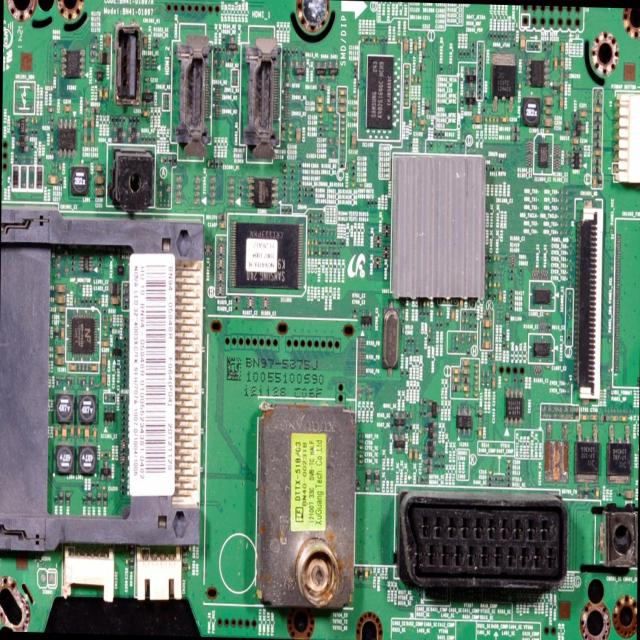Capacitor: (357, 436, 382, 469), (402, 33, 431, 57), (451, 357, 480, 379), (356, 378, 376, 405), (362, 470, 386, 492), (559, 39, 565, 114), (480, 317, 493, 351), (541, 95, 553, 130), (472, 114, 510, 125), (408, 432, 421, 462), (84, 113, 96, 145), (337, 86, 348, 115), (339, 114, 348, 148), (622, 486, 638, 504), (580, 412, 599, 426), (46, 170, 61, 187), (349, 130, 359, 154), (611, 412, 629, 425), (484, 280, 505, 291), (100, 463, 112, 482), (568, 136, 588, 147), (315, 94, 325, 115), (286, 122, 295, 144), (490, 361, 496, 391), (472, 376, 480, 398), (496, 289, 506, 306), (109, 280, 121, 294), (417, 471, 429, 485), (294, 125, 303, 143), (403, 86, 410, 109), (434, 306, 444, 322), (418, 116, 428, 131), (45, 132, 55, 147), (423, 457, 433, 472), (592, 484, 602, 499), (61, 421, 68, 442), (140, 33, 149, 49), (411, 74, 423, 86), (332, 113, 339, 133), (350, 118, 360, 132), (518, 32, 525, 52), (404, 61, 412, 78), (54, 283, 66, 294), (54, 345, 66, 356), (216, 218, 226, 231), (552, 56, 560, 72), (89, 362, 100, 373), (593, 101, 602, 114), (101, 369, 107, 388), (461, 315, 469, 329), (75, 424, 82, 440), (100, 339, 110, 350), (411, 99, 417, 117), (478, 425, 485, 440), (83, 425, 90, 440), (592, 148, 602, 158), (486, 466, 496, 476), (141, 108, 150, 119), (423, 300, 432, 311), (55, 296, 66, 305), (96, 87, 103, 101), (91, 427, 98, 441), (454, 332, 461, 345), (64, 104, 73, 114), (309, 238, 318, 248), (110, 295, 119, 305), (450, 306, 455, 324), (55, 357, 65, 366), (462, 386, 470, 397), (592, 174, 598, 188), (307, 246, 314, 258), (494, 252, 501, 264), (57, 305, 66, 314), (104, 86, 109, 102), (326, 104, 334, 114), (102, 326, 110, 336), (69, 363, 77, 373), (70, 423, 75, 439), (54, 423, 59, 439), (351, 176, 357, 189), (318, 114, 325, 125), (473, 332, 479, 344), (60, 327, 65, 341), (55, 374, 60, 388), (580, 110, 588, 118), (205, 157, 210, 169), (289, 160, 296, 168), (102, 357, 107, 368), (281, 167, 290, 173), (100, 448, 104, 461), (10, 119, 15, 129), (505, 338, 509, 350), (318, 247, 322, 258), (106, 314, 110, 325), (351, 94, 358, 100), (358, 182, 365, 188), (506, 456, 512, 463), (98, 297, 102, 307), (108, 450, 112, 460), (537, 40, 541, 50), (412, 117, 415, 128), (160, 154, 163, 165), (73, 296, 76, 307), (352, 158, 356, 166), (427, 325, 431, 333), (352, 106, 357, 112), (110, 316, 113, 326), (316, 226, 318, 238), (102, 314, 105, 322), (455, 378, 459, 383), (485, 271, 487, 280)
IC: (486, 47, 520, 120), (572, 424, 603, 480), (501, 381, 532, 429), (242, 175, 280, 212), (546, 437, 570, 483), (528, 332, 560, 366), (522, 56, 552, 92), (529, 278, 555, 313), (69, 253, 102, 276), (102, 405, 117, 433), (225, 34, 240, 61), (359, 311, 374, 334), (141, 81, 155, 104), (112, 339, 123, 363), (96, 66, 104, 85)
Resistor Jumper: (433, 452, 448, 470), (486, 476, 513, 486), (432, 128, 445, 140), (418, 308, 431, 320), (435, 322, 450, 331), (470, 39, 477, 58), (445, 141, 454, 154), (427, 334, 432, 348), (507, 464, 512, 475)
Resistor Network: (534, 134, 551, 173), (110, 111, 141, 128), (487, 154, 508, 174), (404, 335, 421, 355), (593, 113, 602, 149), (280, 173, 289, 199), (507, 288, 516, 314), (321, 248, 342, 259), (457, 45, 471, 61), (325, 237, 345, 248), (399, 365, 414, 379), (303, 184, 315, 199), (297, 178, 303, 206), (550, 79, 559, 97), (592, 157, 602, 173), (401, 310, 406, 337), (424, 99, 432, 115), (166, 156, 177, 167), (562, 121, 570, 136), (478, 404, 484, 424), (508, 268, 516, 282), (64, 492, 71, 508), (211, 160, 222, 170), (217, 209, 227, 220), (308, 211, 316, 224), (419, 61, 428, 72), (438, 60, 445, 74), (487, 290, 495, 302), (89, 374, 95, 390), (52, 494, 59, 507), (490, 271, 500, 280), (584, 486, 590, 501), (214, 46, 225, 54), (307, 225, 315, 236), (520, 263, 524, 285), (601, 412, 609, 423), (320, 226, 327, 238), (452, 383, 461, 392), (54, 325, 59, 341), (409, 420, 417, 430), (59, 491, 64, 507), (319, 126, 325, 139), (318, 213, 324, 226), (317, 236, 323, 249), (290, 168, 296, 180), (461, 377, 470, 385), (281, 121, 286, 135), (66, 375, 71, 389), (502, 332, 506, 349), (52, 67, 58, 78), (351, 165, 357, 176), (616, 489, 622, 500), (37, 152, 42, 165), (82, 374, 86, 390), (88, 490, 92, 506), (485, 253, 492, 262), (428, 141, 434, 151), (11, 129, 16, 141), (97, 491, 101, 506), (403, 79, 410, 87), (104, 492, 108, 506), (504, 253, 509, 264), (30, 116, 34, 129), (281, 160, 288, 167), (88, 295, 92, 306), (50, 148, 54, 158), (94, 298, 98, 308), (105, 449, 108, 462), (571, 109, 575, 118), (50, 115, 54, 124), (14, 153, 17, 164), (81, 296, 84, 307), (83, 495, 86, 506), (298, 162, 302, 170), (85, 296, 88, 306), (50, 125, 54, 132), (314, 249, 317, 258)
iC: (226, 206, 310, 298), (356, 39, 404, 142), (606, 424, 633, 484), (454, 406, 475, 442), (419, 391, 439, 420), (391, 432, 409, 459), (392, 406, 408, 433), (425, 435, 439, 457), (422, 418, 438, 436)
